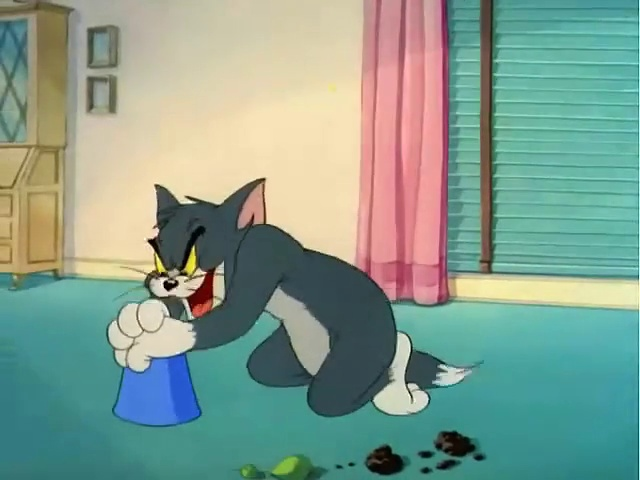tom: (100, 174, 489, 451)
